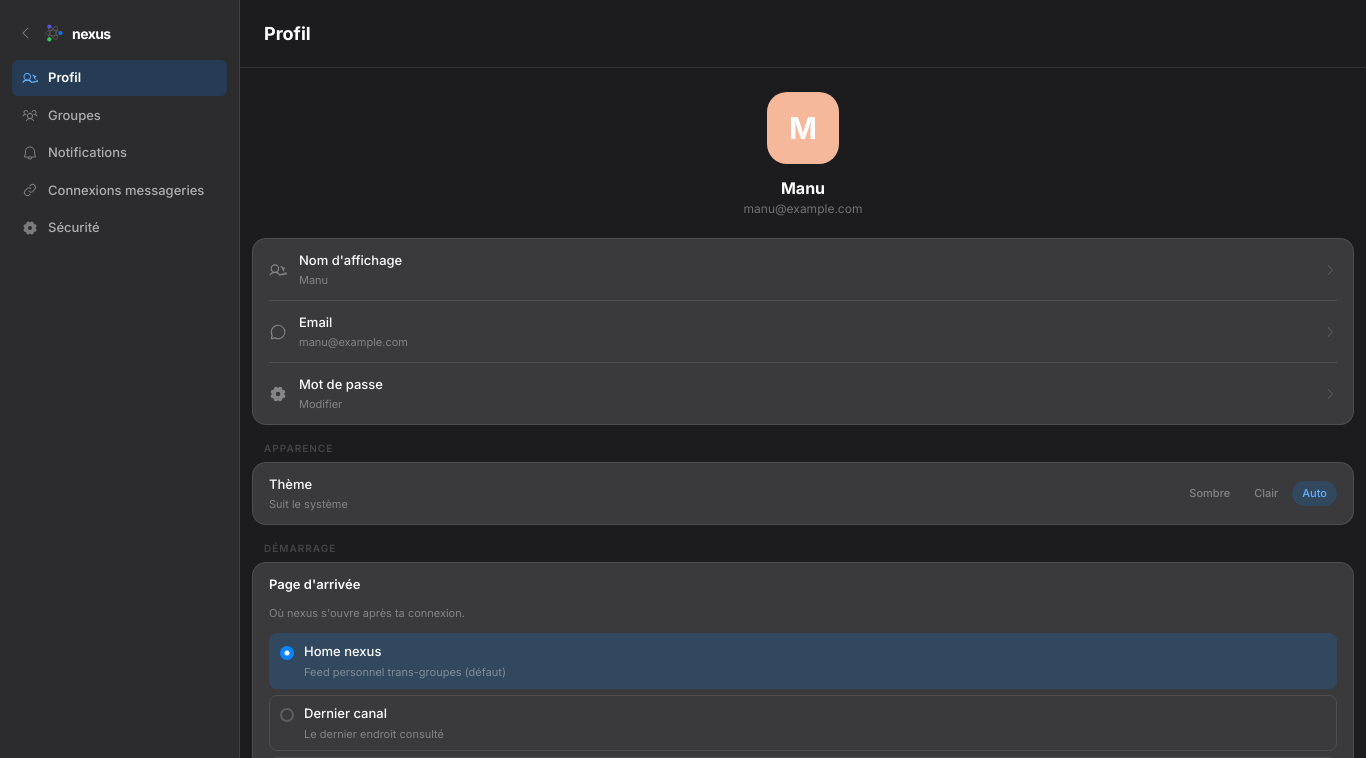
Modales de compte — nommage accessible des champs › le champ nom d'affichage a un nom accessible
The width and height of the screenshot is (1366, 758).
Click the text "Nom d'affichage": x=351, y=260 [299,252,402,268]
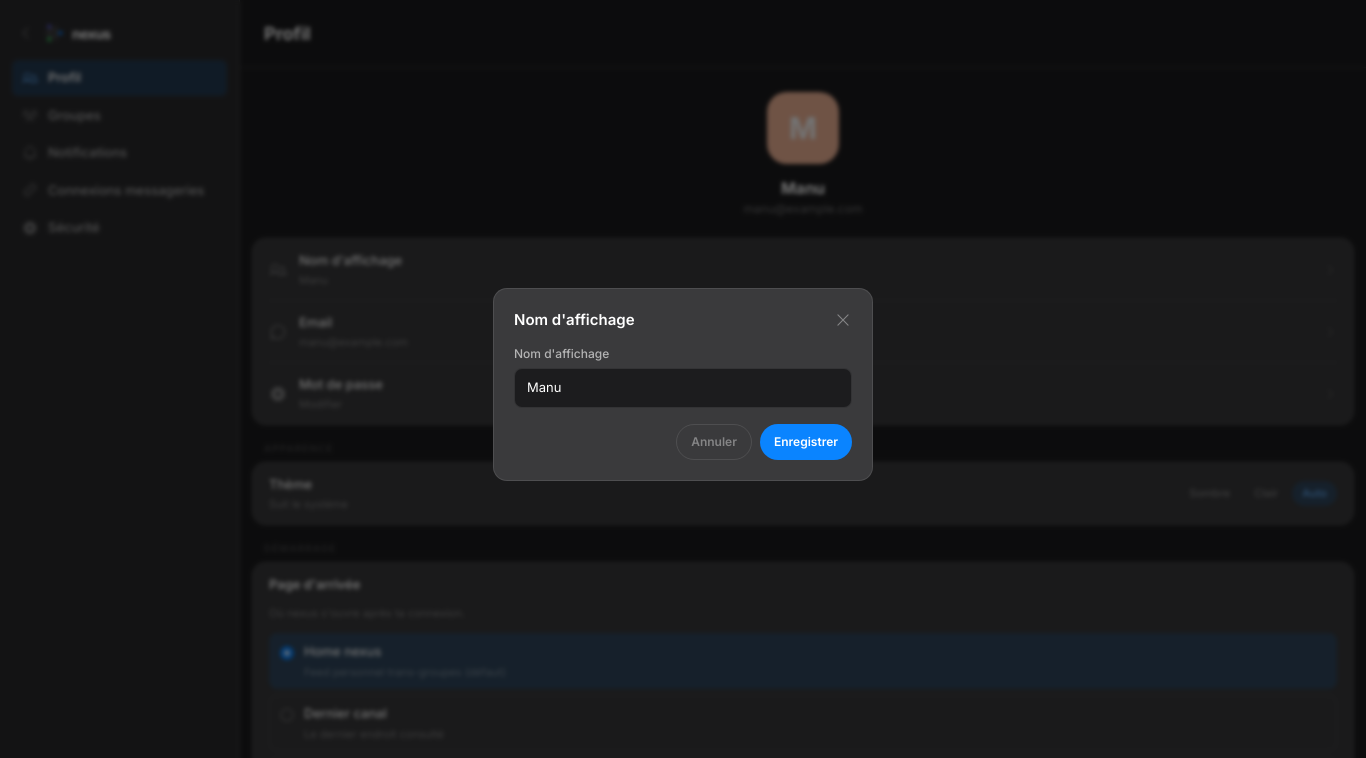
Result: the field labelled "Nom d'affichage" holds "Manu" at [514,368,852,408]
